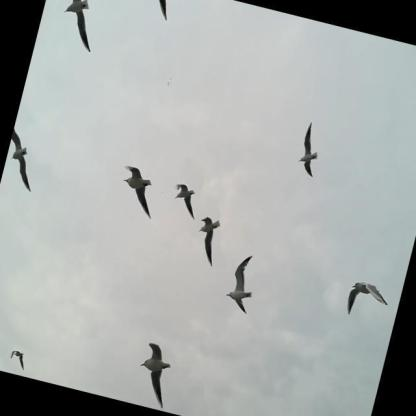bird: (128, 336, 181, 412), (43, 0, 111, 58), (0, 121, 47, 201), (219, 248, 265, 320), (112, 159, 164, 222), (340, 270, 394, 327), (187, 207, 230, 276), (291, 118, 328, 185), (162, 173, 204, 229), (5, 344, 31, 372)
